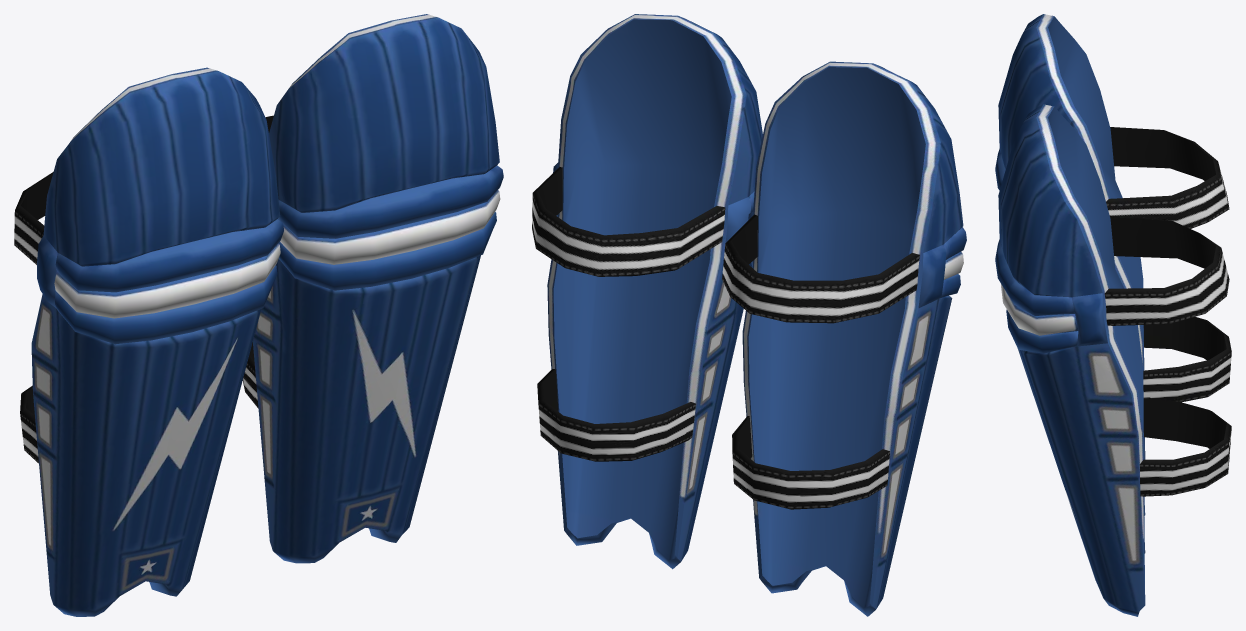
Rendered from pads.glb.
The picture shows the model from 3 angles, left to right: view 1: azimuth 30°, elevation 25°; view 2: azimuth 150°, elevation 25°; view 3: azimuth 270°, elevation 25°; orthographic projection. The views are drawn at different scales.
Visible parts, largest first — view 1: Strap_CricketEquipments_0; view 2: Strap_CricketEquipments_0; view 3: Strap_CricketEquipments_0.
Part boxes in pixels (x1,y1,x2,y2): Strap_CricketEquipments_0: [14, 14, 503, 616]; Strap_CricketEquipments_0: [532, 14, 966, 616]; Strap_CricketEquipments_0: [995, 14, 1231, 616].
Bounding box in the file's own units: 0.4492 × 0.5587 × 0.2512.
1 material, 1 textured.
